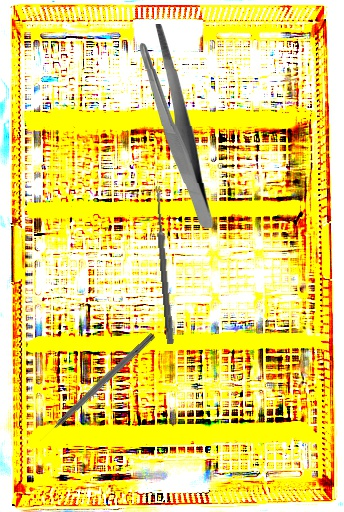Dressing Forceps: (138, 22, 215, 230)
Hook Surgical: (35, 331, 157, 444)
Surgical Spoon: (153, 185, 175, 345)
